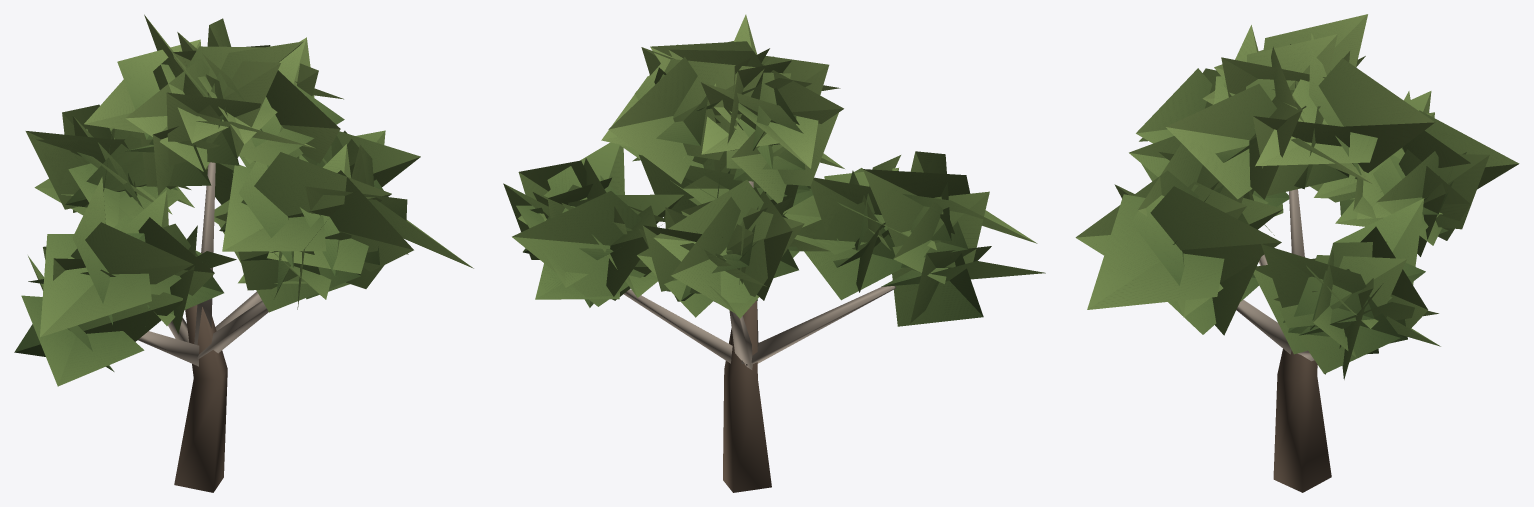
Rendered from juniper_lo.glb.
The picture shows the model from 3 angles, left to right: view 1: azimuth 30°, elevation 25°; view 2: azimuth 150°, elevation 25°; view 3: azimuth 270°, elevation 25°; orthographic projection. The views are drawn at different scales.
Visible parts, largest first — view 1: juniper_lo; view 2: juniper_lo; view 3: juniper_lo.
Boxes of the visible parts, x1=… form: juniper_lo: x1=14, y1=14, x2=473, y2=492; juniper_lo: x1=503, y1=14, x2=1045, y2=492; juniper_lo: x1=1075, y1=14, x2=1519, y2=492.
Bounding box in the file's own units: 4 × 3.79 × 3.35.
